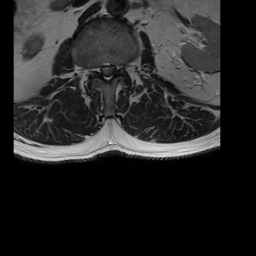CCS_stenosis: (105, 54, 110, 87)
LFS_severe_stenosis: (116, 54, 124, 75)
LLS_severe_stenosis: (110, 58, 116, 82)
RFS_severe_stenosis: (91, 57, 99, 81)
RLS_stenosis: (99, 57, 105, 82)
